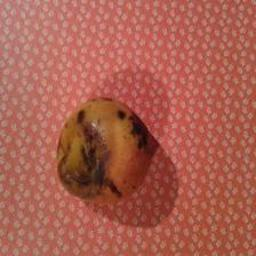Mango Rotten: (45, 88, 167, 216)
